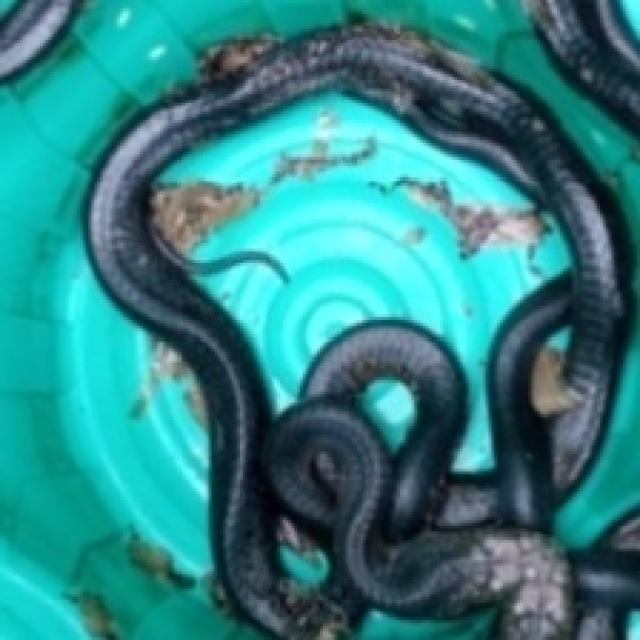king cobra: (86, 26, 629, 637), (149, 89, 571, 474)
